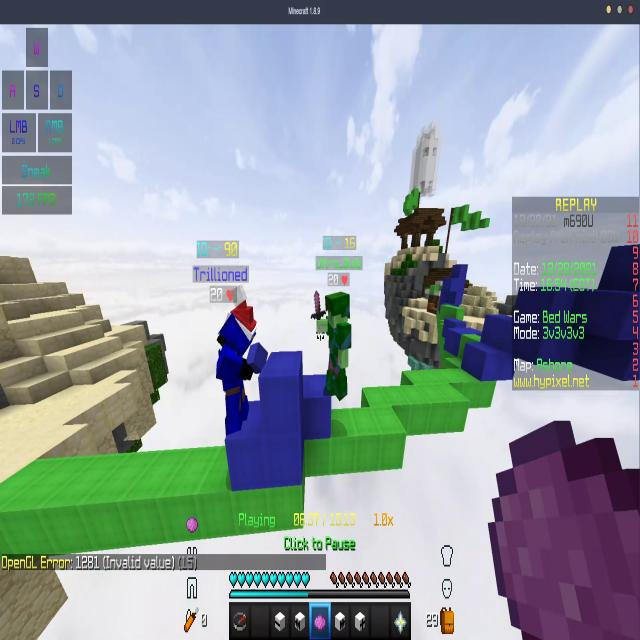Player: (209, 286, 258, 444), (308, 272, 358, 405)
